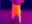Hotspot: (12, 4, 22, 23)
